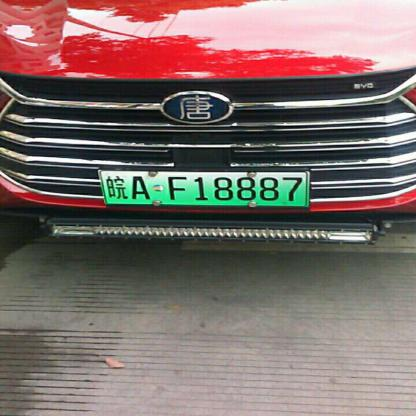lp: (101, 171, 306, 206)
